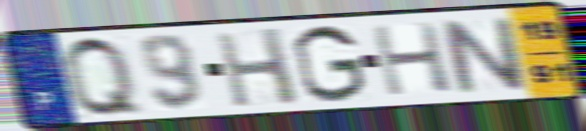9: (137, 32, 206, 113)
G: (290, 22, 370, 105)
H: (211, 25, 303, 109), (367, 20, 457, 99)
N: (434, 15, 532, 96)
Q: (58, 33, 149, 119)
